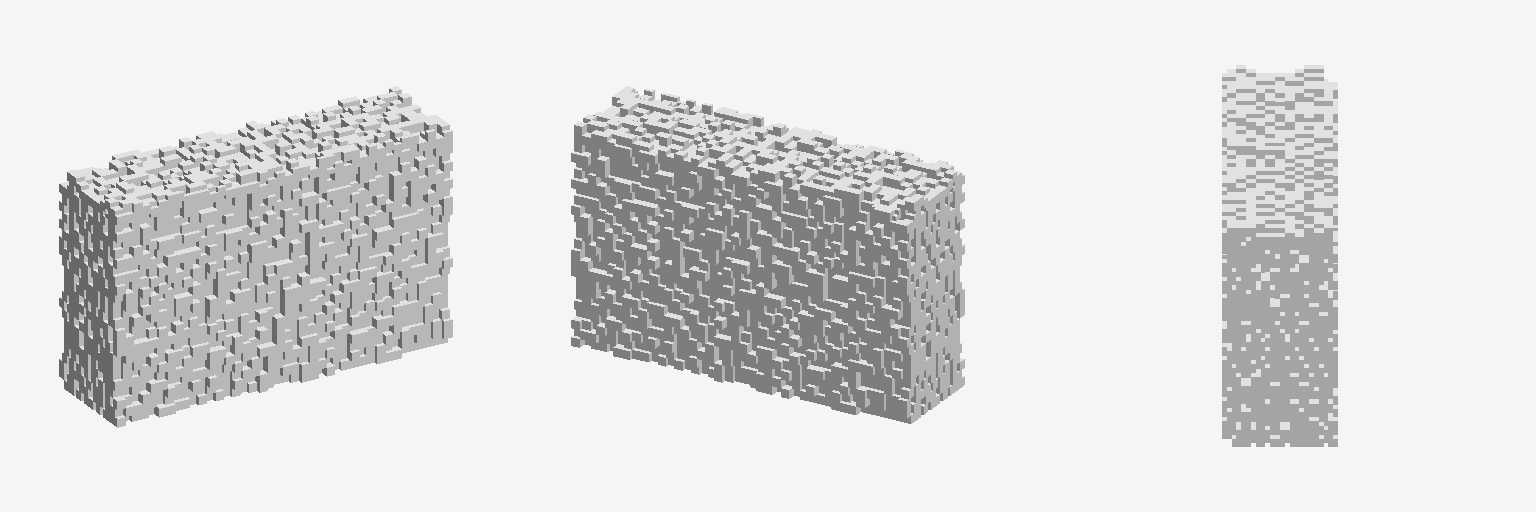
The model's file is RAShæk1.obj.
The picture shows the model from 3 angles: view 1: azimuth 30°, elevation 25°; view 2: azimuth 150°, elevation 25°; view 3: azimuth 270°, elevation 25°; orthographic projection.
Visible parts, largest first — view 1: object 1; view 2: object 1; view 3: object 1.
Part boxes in pixels (x1,y1,x2,y2): object 1: (59,86,452,427); object 1: (571,86,964,423); object 1: (1222,65,1337,446).
Size of the model in its own units: 8 by 5 by 2.4.